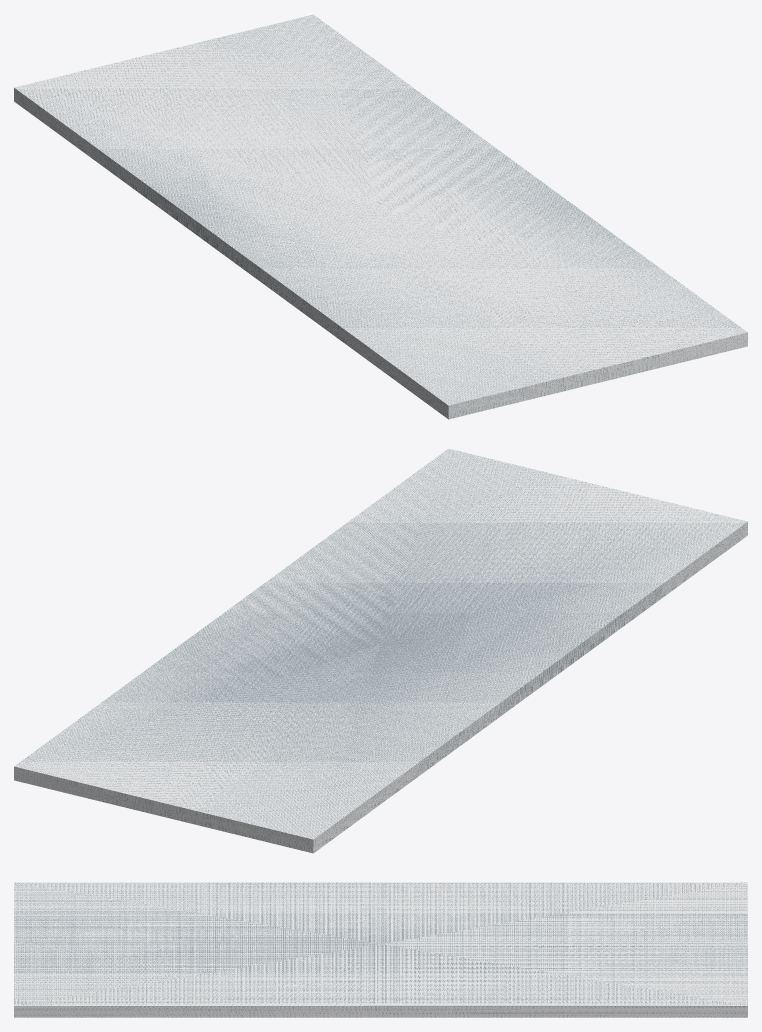
The model's file is wood.fbx.
3 renders of one model, top to bottom at view 1: azimuth 30°, elevation 25°; view 2: azimuth 150°, elevation 25°; view 3: azimuth 270°, elevation 25°, orthographic. The views are drawn at different scales.
Parts seen in each view (by area): view 1: Model; view 2: Model; view 3: Model.
Part boxes in pixels (x1,y1,x2,y2): Model: (14,14,747,419); Model: (14,448,747,853); Model: (14,882,747,1017).
Bounding box in the file's own units: 9701 × 430 × 24379.
